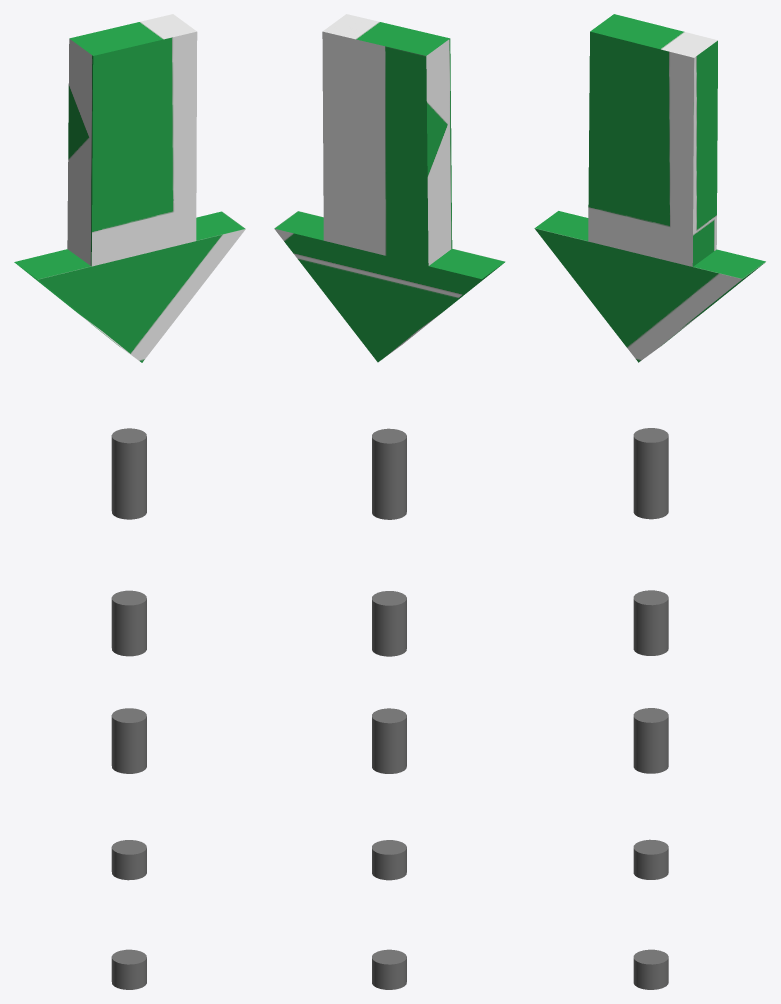
File: arrow.obj
3 renders of one model, left to right at view 1: azimuth 30°, elevation 25°; view 2: azimuth 150°, elevation 25°; view 3: azimuth 330°, elevation 25°, orthographic.
Visible parts, largest first — view 1: polySurface1; view 2: polySurface1; view 3: polySurface1.
Boxes of the visible parts, left/top/right/bottom form: polySurface1: left=14, top=14, right=245, bottom=989; polySurface1: left=274, top=14, right=505, bottom=989; polySurface1: left=534, top=14, right=765, bottom=989.
Bounding box in the file's own units: 1.13 × 4.92 × 0.2279.
2 materials, 1 textured.
